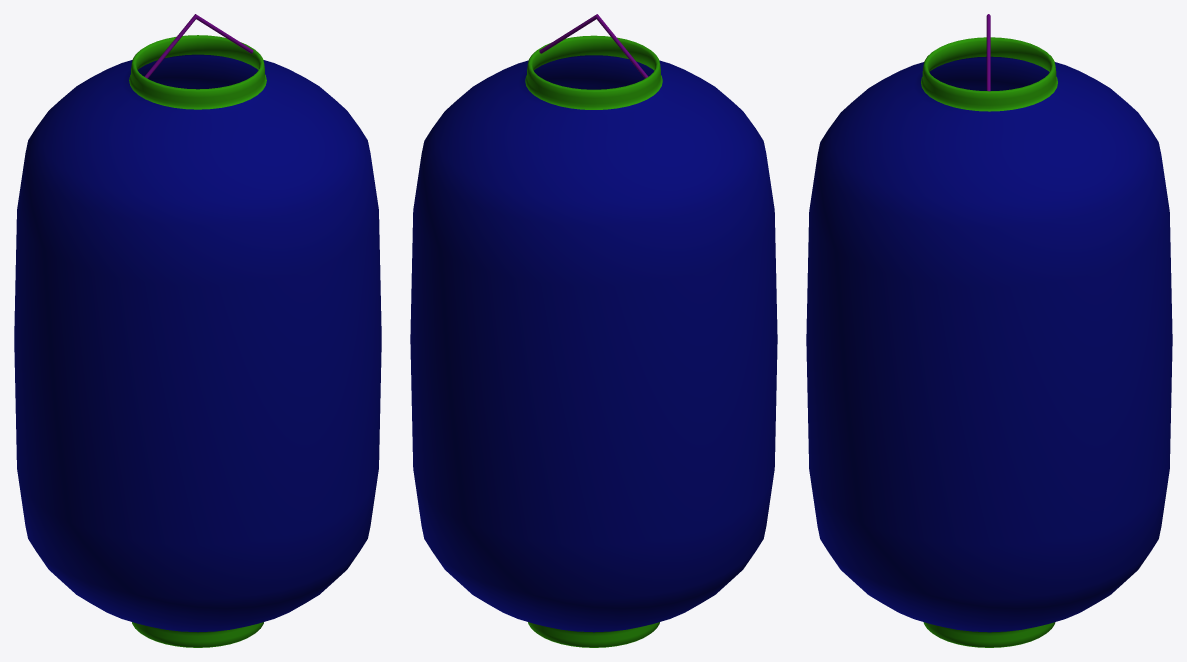
The model's file is LED.fbx.
The picture shows the model from 3 angles, left to right: view 1: azimuth 30°, elevation 25°; view 2: azimuth 150°, elevation 25°; view 3: azimuth 270°, elevation 25°; orthographic projection.
Visible parts, largest first — view 1: Sphere001; view 2: Sphere001; view 3: Sphere001.
Boxes of the visible parts, x1,y1,x2,y2 form: Sphere001: (14,14,381,647); Sphere001: (410,14,777,647); Sphere001: (806,14,1172,647).
Size of the model in its own units: 12.63 by 23.05 by 12.63.
